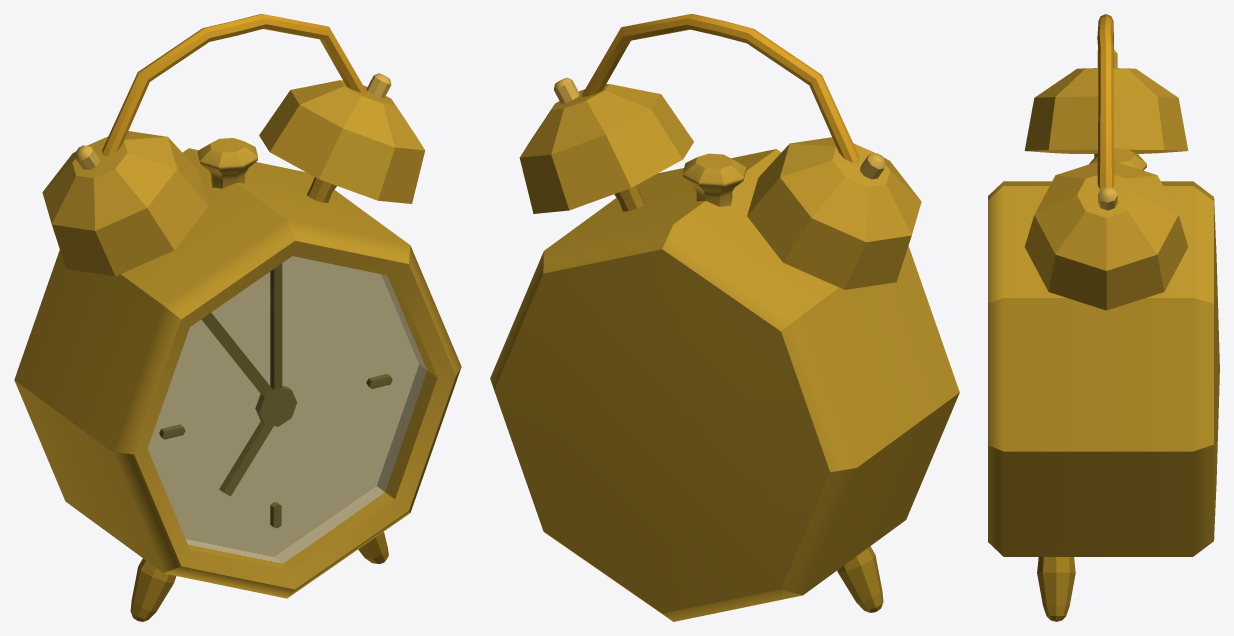
The model's file is AlarmClock.fbx.
3 views of the same model, side by side, from view 1: azimuth 30°, elevation 25°; view 2: azimuth 150°, elevation 25°; view 3: azimuth 270°, elevation 25° (orthographic). The views are drawn at different scales.
Visible parts, largest first — view 1: Clock, Bell, Handle, Stand2, Hammer, Second_Hand, Minute_Hand, Cap, Hour_Hand, Cap_Nut; view 2: Clock, Bell, Handle, Hammer, Stand2, Cap_Nut; view 3: Clock, Bell, Handle, Stand2, Hammer, Cap_Nut.
Part boxes in pixels (bbox=[...]): Clock: bbox=[14, 148, 461, 598]; Bell: bbox=[42, 80, 425, 276]; Handle: bbox=[102, 14, 365, 155]; Stand2: bbox=[130, 531, 388, 621]; Hammer: bbox=[197, 138, 257, 188]; Second_Hand: bbox=[270, 263, 282, 389]; Minute_Hand: bbox=[201, 312, 273, 396]; Cap: bbox=[255, 386, 297, 426]; Hour_Hand: bbox=[219, 421, 273, 496]; Cap_Nut: bbox=[75, 73, 391, 169]; Clock: bbox=[490, 149, 959, 621]; Bell: bbox=[519, 84, 921, 289]; Handle: bbox=[582, 14, 859, 162]; Hammer: bbox=[682, 153, 746, 206]; Stand2: bbox=[837, 546, 883, 612]; Cap_Nut: bbox=[554, 77, 885, 179]; Clock: bbox=[988, 181, 1219, 556]; Bell: bbox=[1024, 68, 1188, 310]; Handle: bbox=[1097, 14, 1114, 189]; Stand2: bbox=[1037, 557, 1075, 621]; Hammer: bbox=[1089, 148, 1146, 170]; Cap_Nut: bbox=[1098, 49, 1117, 210].
Size of the model in its own units: 116 by 168 by 66.01.
1 material, 1 textured.
